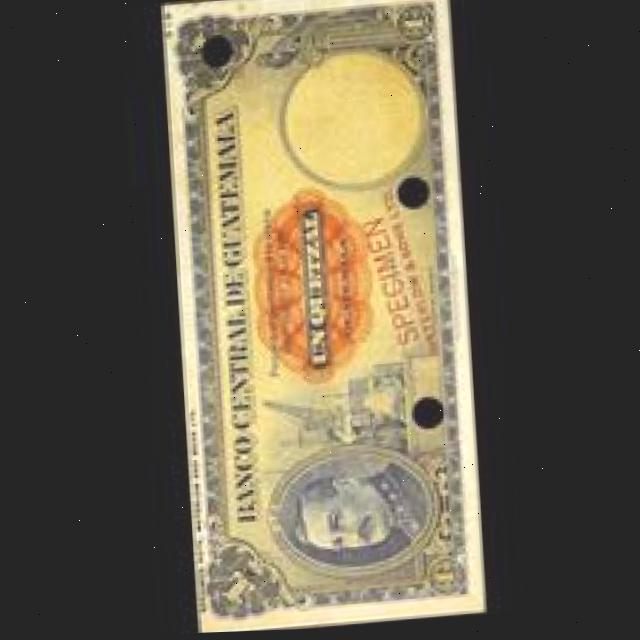banknote: (157, 0, 486, 635)
